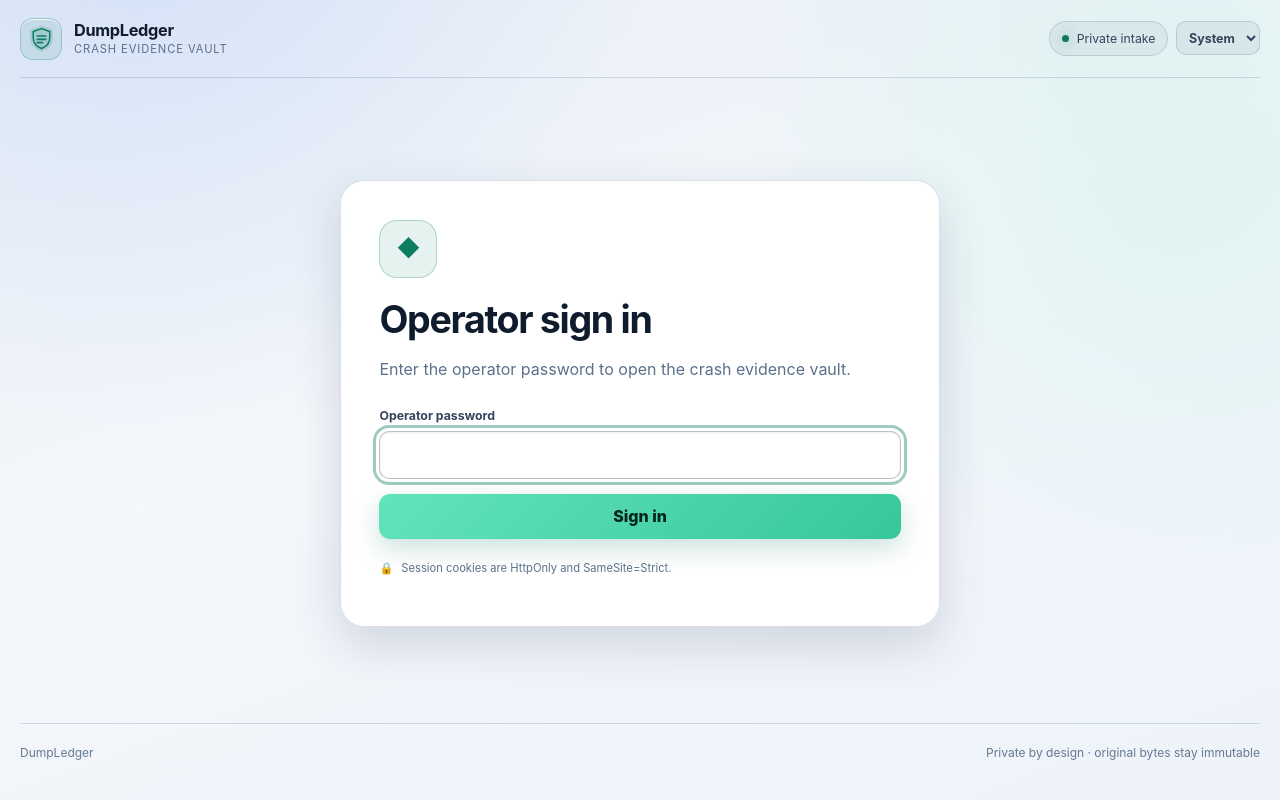
Test: keyboard navigation › moves focus to the error summary after a failed sign-in
This screenshot has width=1280, height=800.
Type "wrong password" into the password field labelled "Operator password" at x=640, y=455, box x1=379 y1=431 x2=901 y2=479
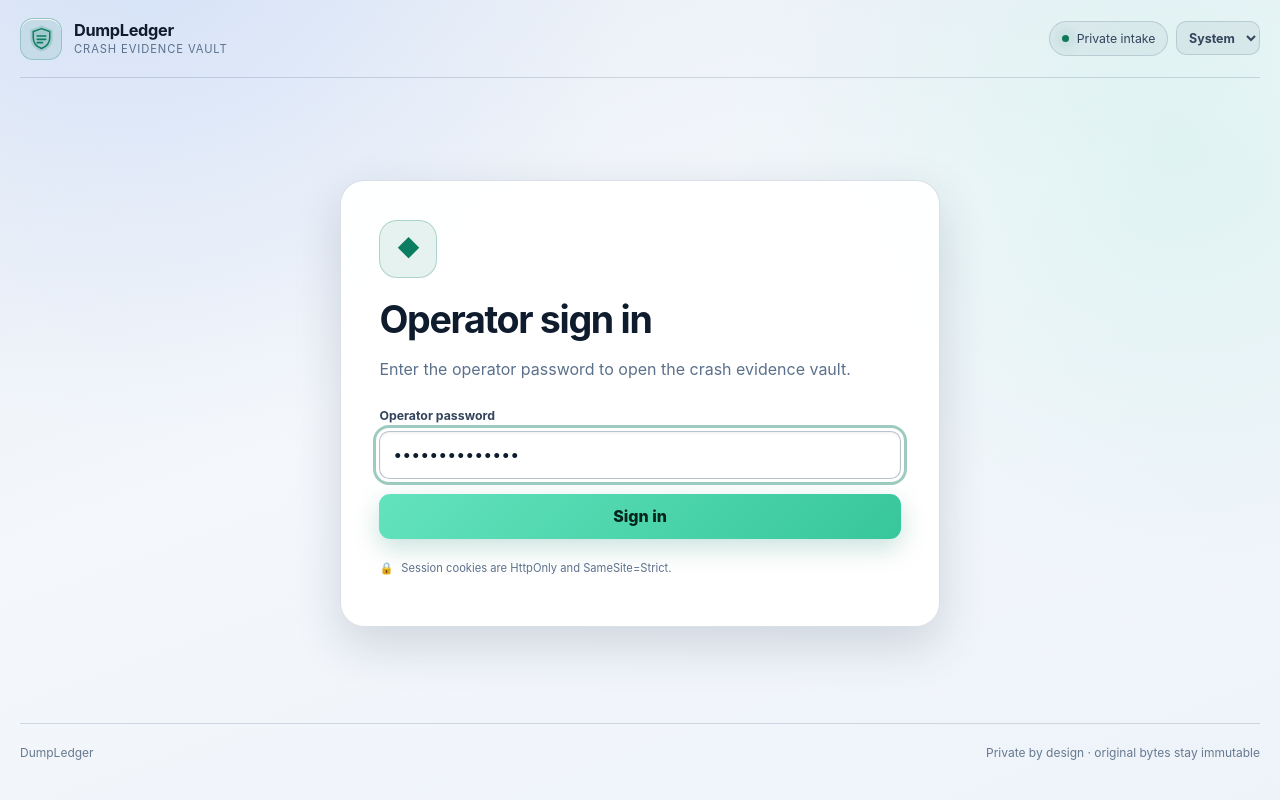
Click the button "Sign in" at x=640, y=516, box x1=379 y1=494 x2=901 y2=539
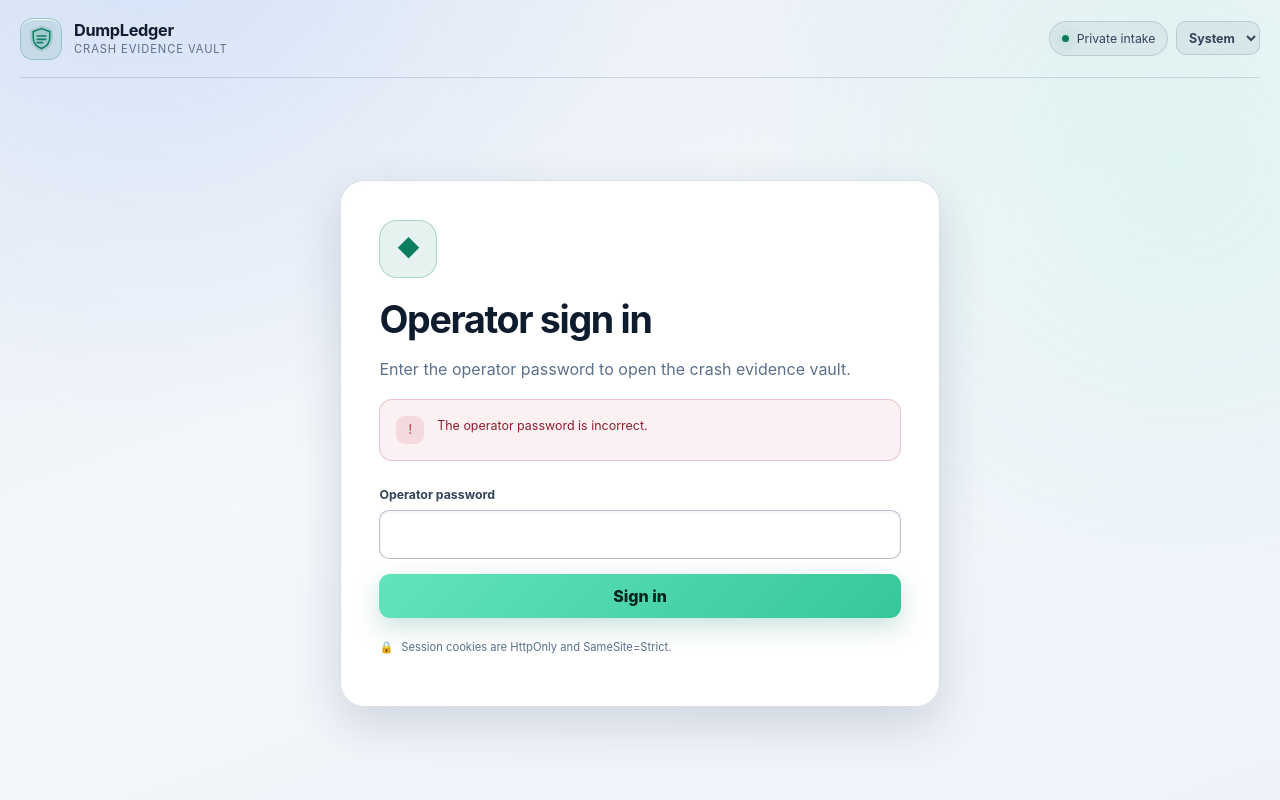
Check: the message shows "The operator password is incorrect.", box x1=437 y1=418 x2=648 y2=433
Check: the element showing "! The operator password is incorrect." is shown, box x1=379 y1=399 x2=901 y2=461
